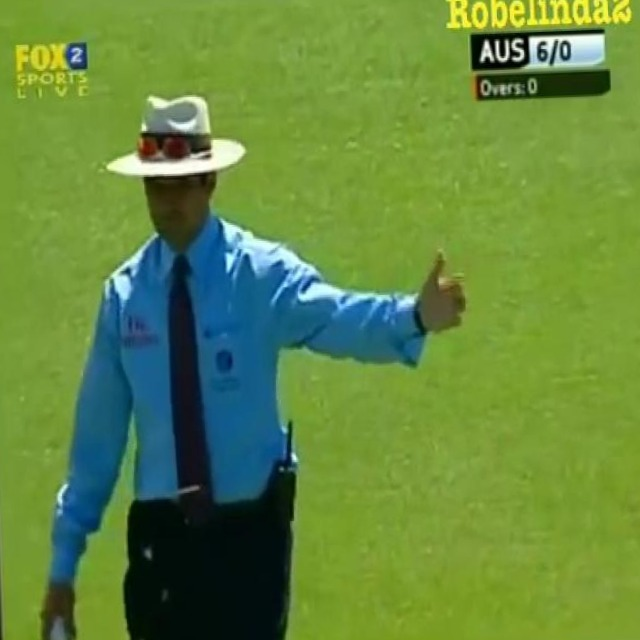No_Ball: (12, 73, 491, 640)
